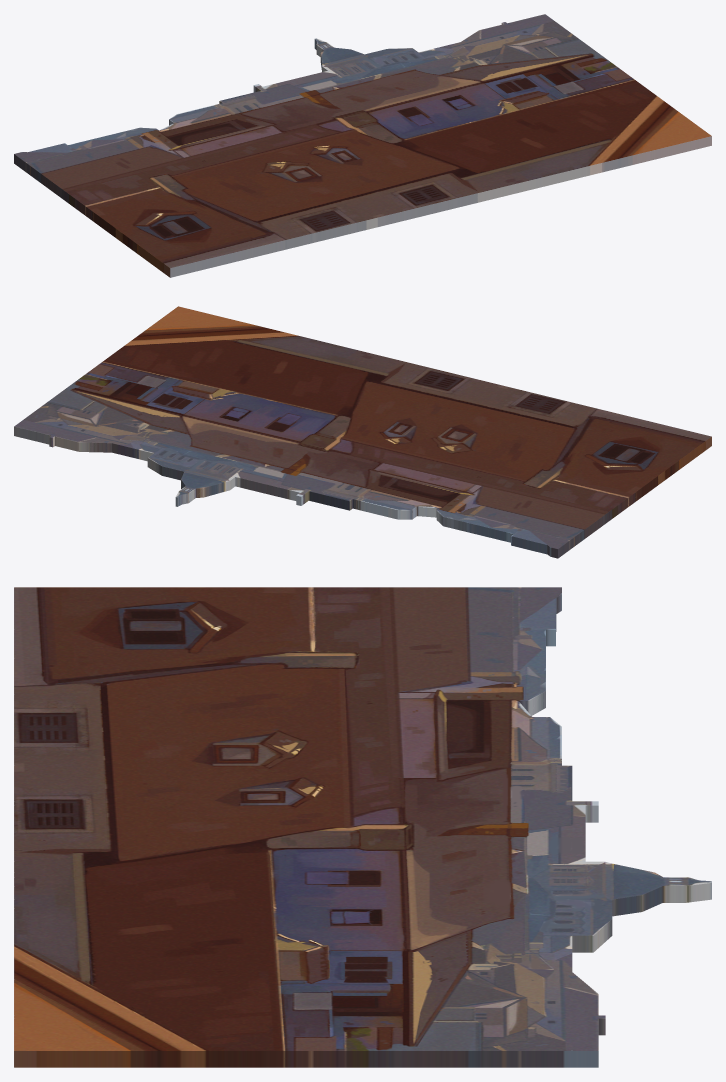
Rendered from background.fbx.
3 views of the same model, one above another, from view 1: azimuth 30°, elevation 25°; view 2: azimuth 150°, elevation 25°; view 3: azimuth 270°, elevation 25° (orthographic). The views are drawn at different scales.
Visible parts, largest first — view 1: Plane.001; view 2: Plane.001; view 3: Plane.001.
Part boxes in pixels (x1,y1,x2,y2): Plane.001: (14,14,711,277); Plane.001: (14,306,711,558); Plane.001: (14,587,711,1067).
Bounding box in the file's own units: 2606 × 43.92 × 1658.
